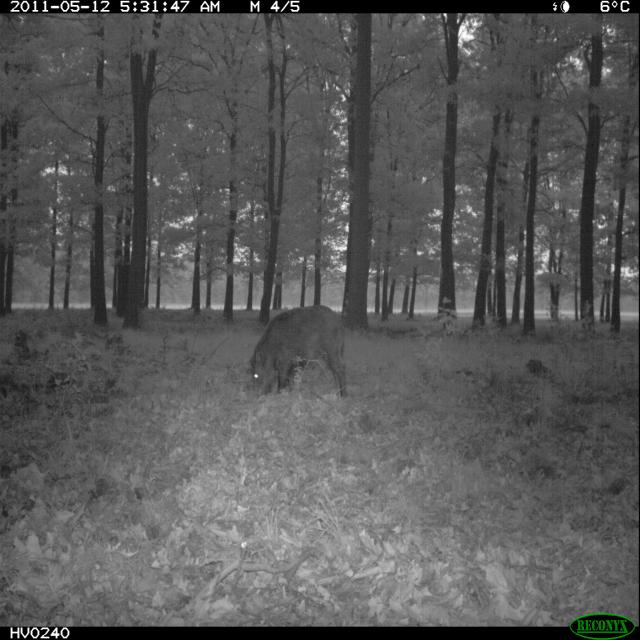boar: (230, 295, 360, 418)
